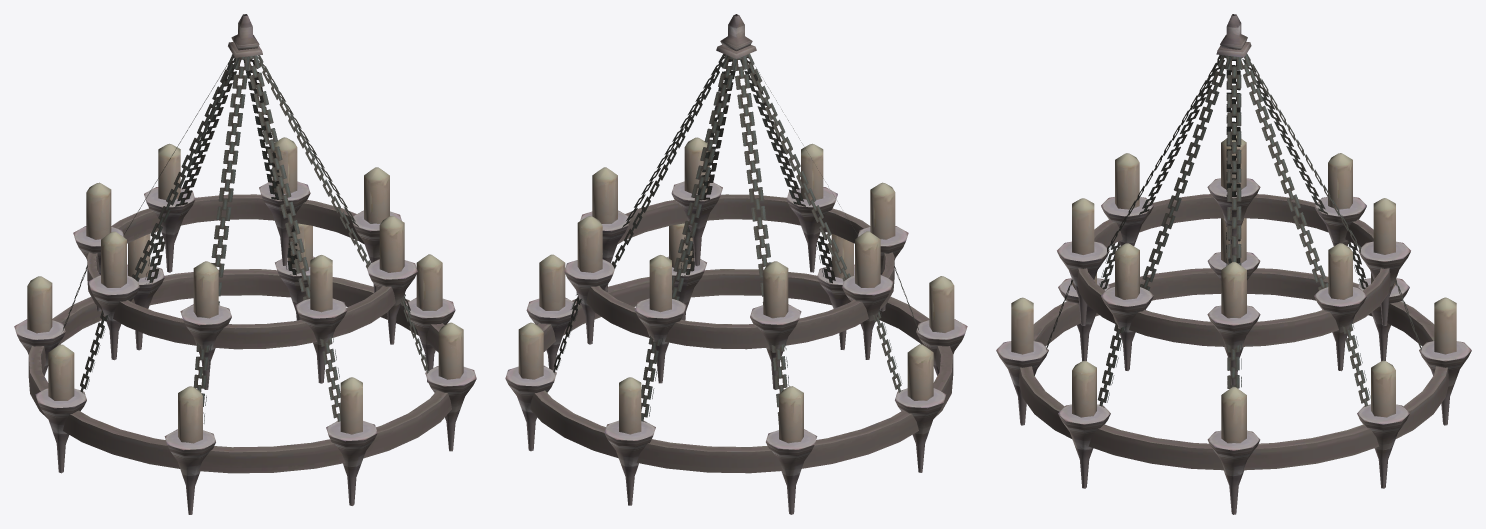
Rendered from Homeworld_Interior_Md_Lamp_Droplight_01_Vo.fbx.
3 renders of one model, left to right at view 1: azimuth 30°, elevation 25°; view 2: azimuth 150°, elevation 25°; view 3: azimuth 270°, elevation 25°, orthographic.
Parts seen in each view (by area): view 1: Homeworld_Interior_Md_Lamp_Droplight_01_Vo; view 2: Homeworld_Interior_Md_Lamp_Droplight_01_Vo; view 3: Homeworld_Interior_Md_Lamp_Droplight_01_Vo.
Part boxes in pixels (x1,y1,x2,y2): Homeworld_Interior_Md_Lamp_Droplight_01_Vo: (14, 14, 476, 514); Homeworld_Interior_Md_Lamp_Droplight_01_Vo: (505, 14, 967, 514); Homeworld_Interior_Md_Lamp_Droplight_01_Vo: (996, 14, 1471, 514).
Bounding box in the file's own units: 1.76 × 1.67 × 1.76.
